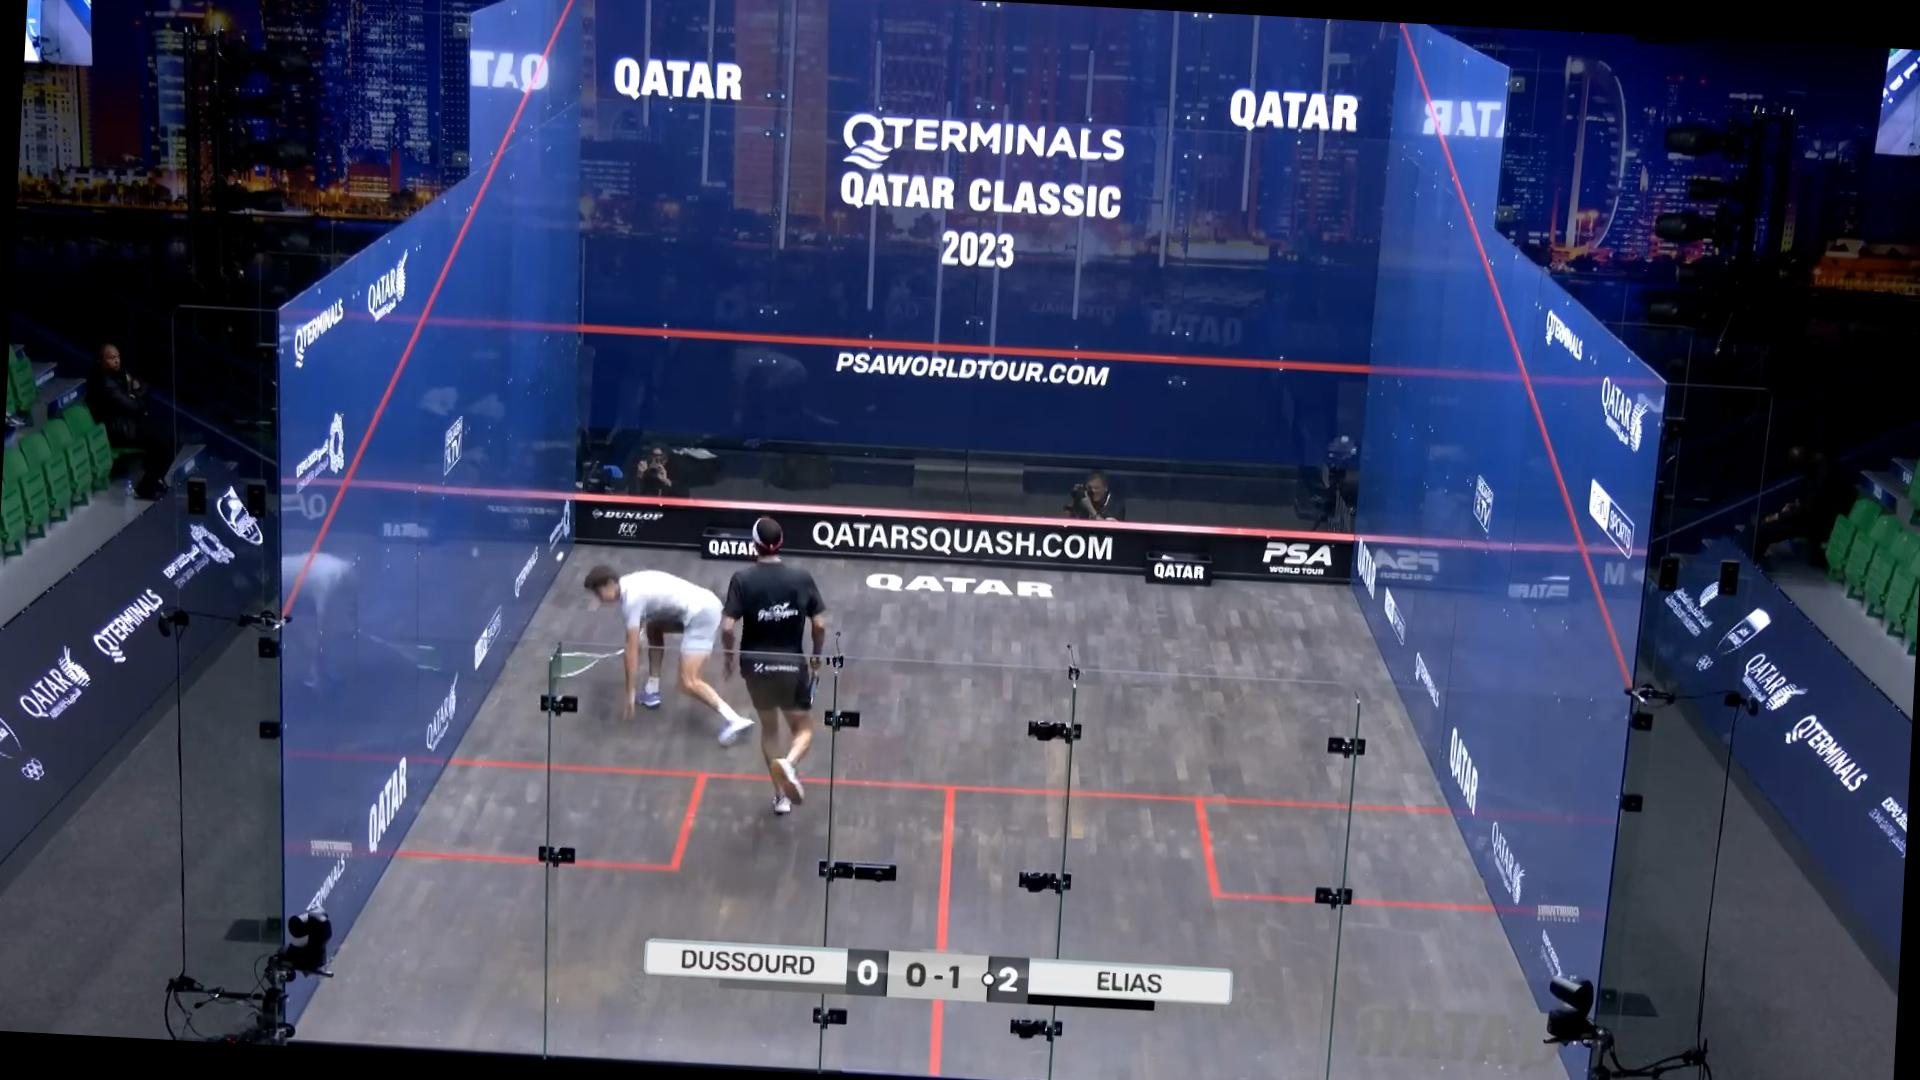Racket: (541, 646, 622, 687)
